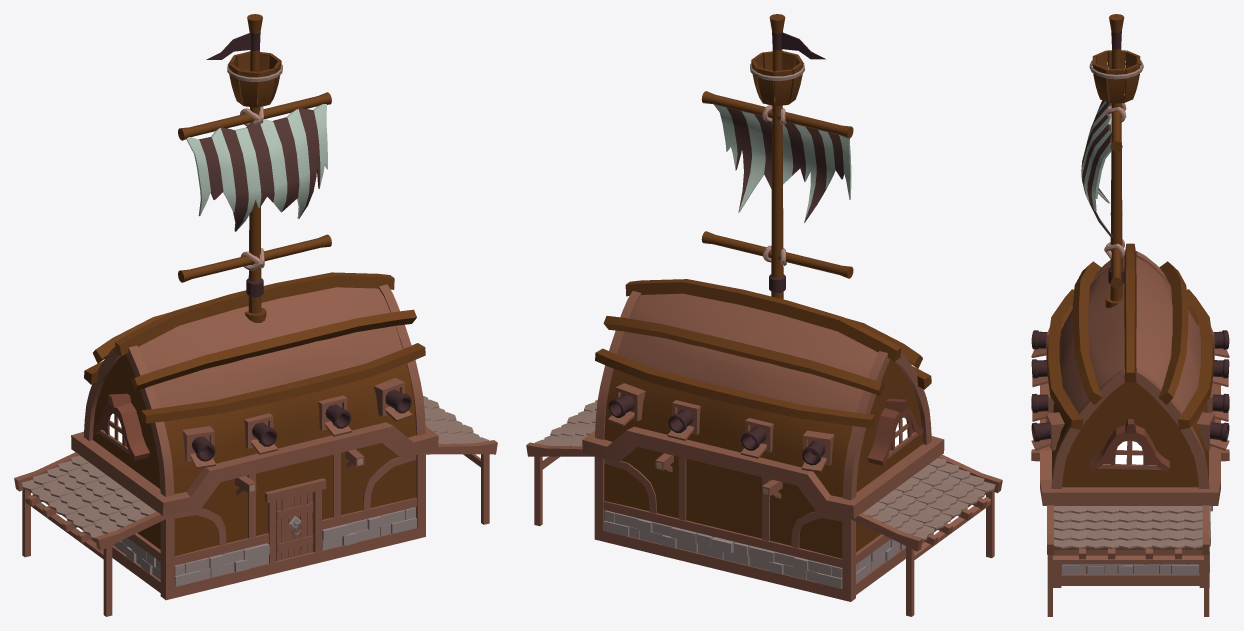
Rendered from Environment_House3.glb.
3 views of the same model, side by side, from view 1: azimuth 30°, elevation 25°; view 2: azimuth 150°, elevation 25°; view 3: azimuth 270°, elevation 25° (orthographic). The views are drawn at different scales.
Visible parts, largest first — view 1: Environment_House3; view 2: Environment_House3; view 3: Environment_House3.
Part boxes in pixels (x1,y1,x2,y2): Environment_House3: (14,14,497,616); Environment_House3: (526,14,1002,616); Environment_House3: (1031,14,1229,616).
Size of the model in its own units: 8.46 by 10.64 by 3.78.
Materials: 2 (1 with a texture image).
